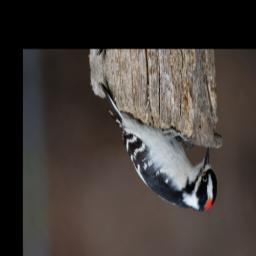Woodpecker: (97, 66, 221, 226)
